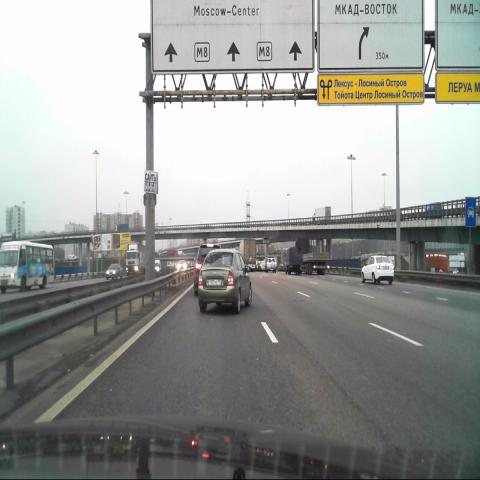5_3: (465, 196, 476, 229)
